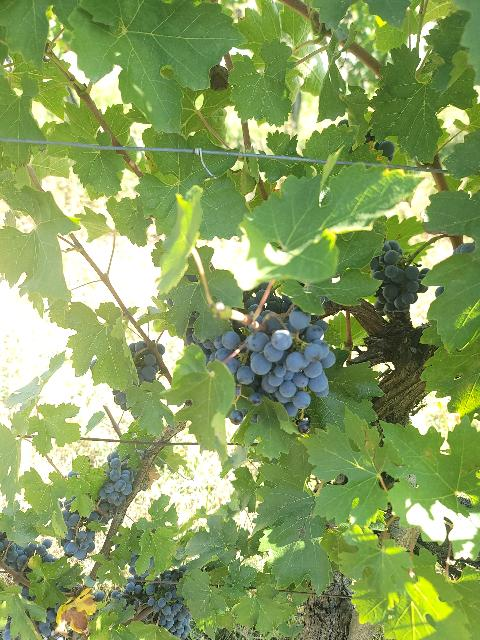grapes: (246, 308, 336, 418), (370, 240, 429, 316), (61, 501, 100, 560), (98, 451, 134, 512), (129, 341, 165, 384)
